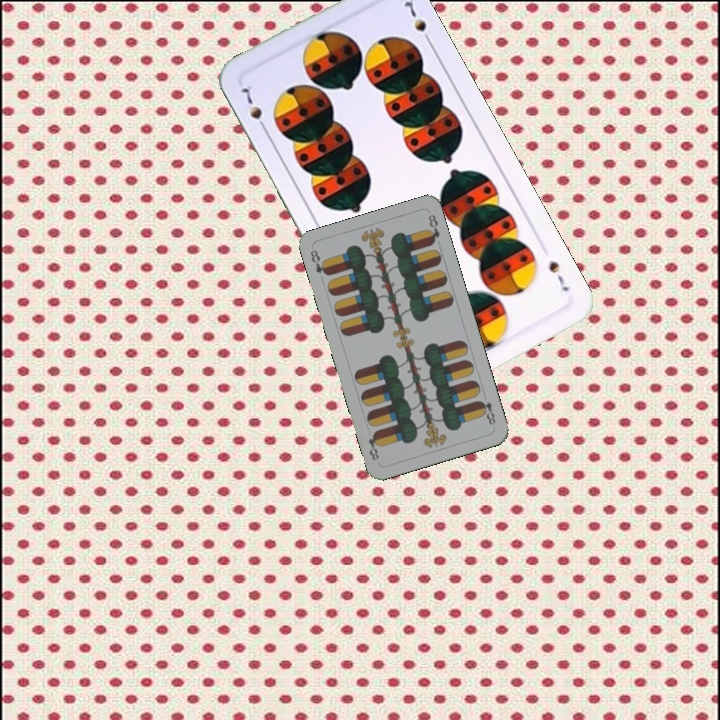E8: (475, 390, 498, 427), (306, 245, 331, 278)
S7: (237, 83, 270, 135), (544, 256, 572, 295)
